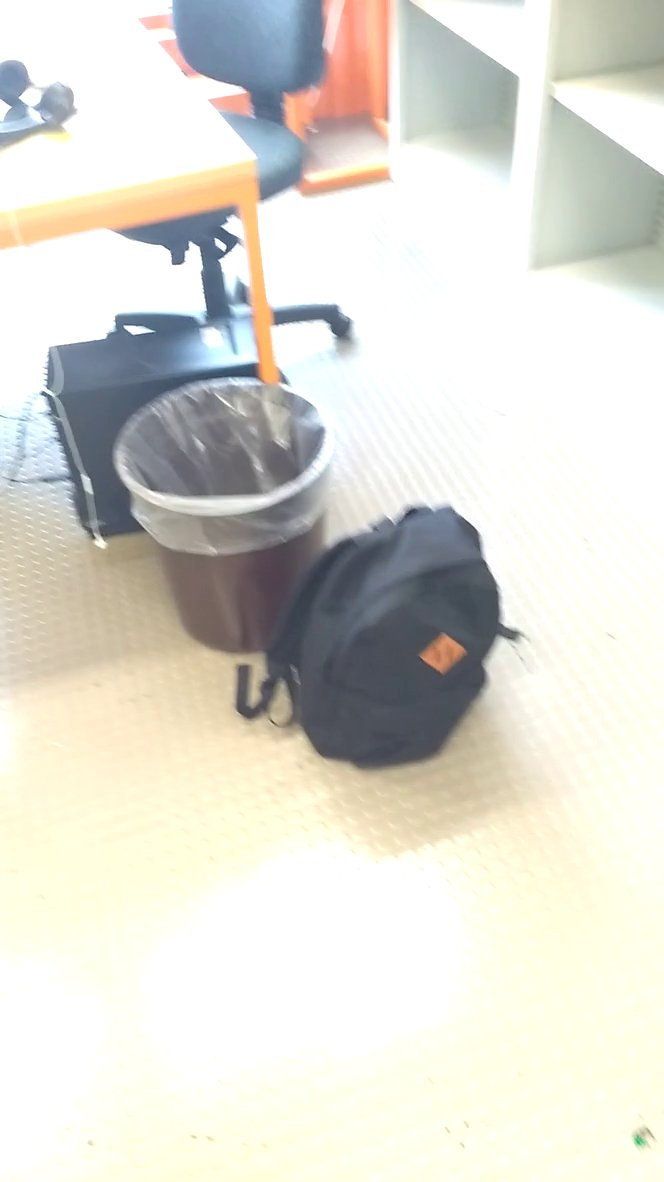bag: (235, 495, 524, 778)
bin: (103, 367, 355, 683)
chair: (92, 1, 373, 351)
